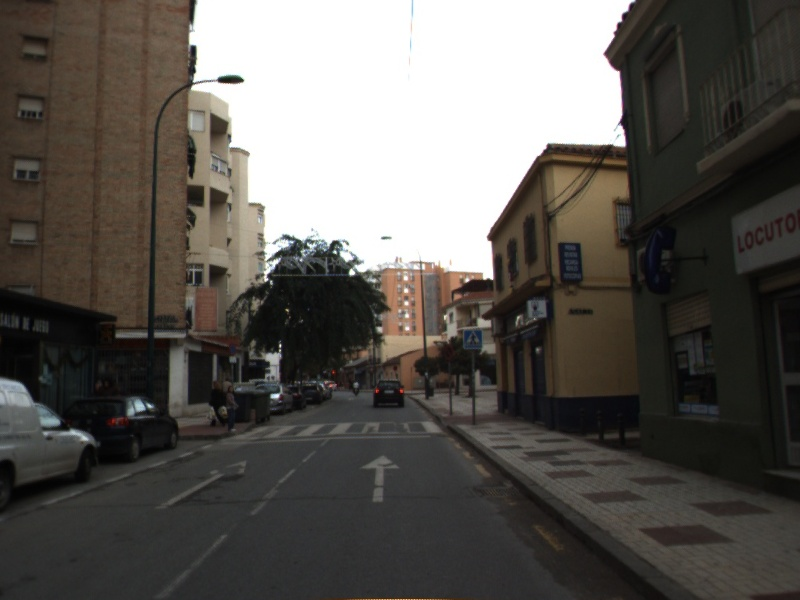STRAIGHT: (152, 458, 248, 512), (357, 453, 402, 505)
